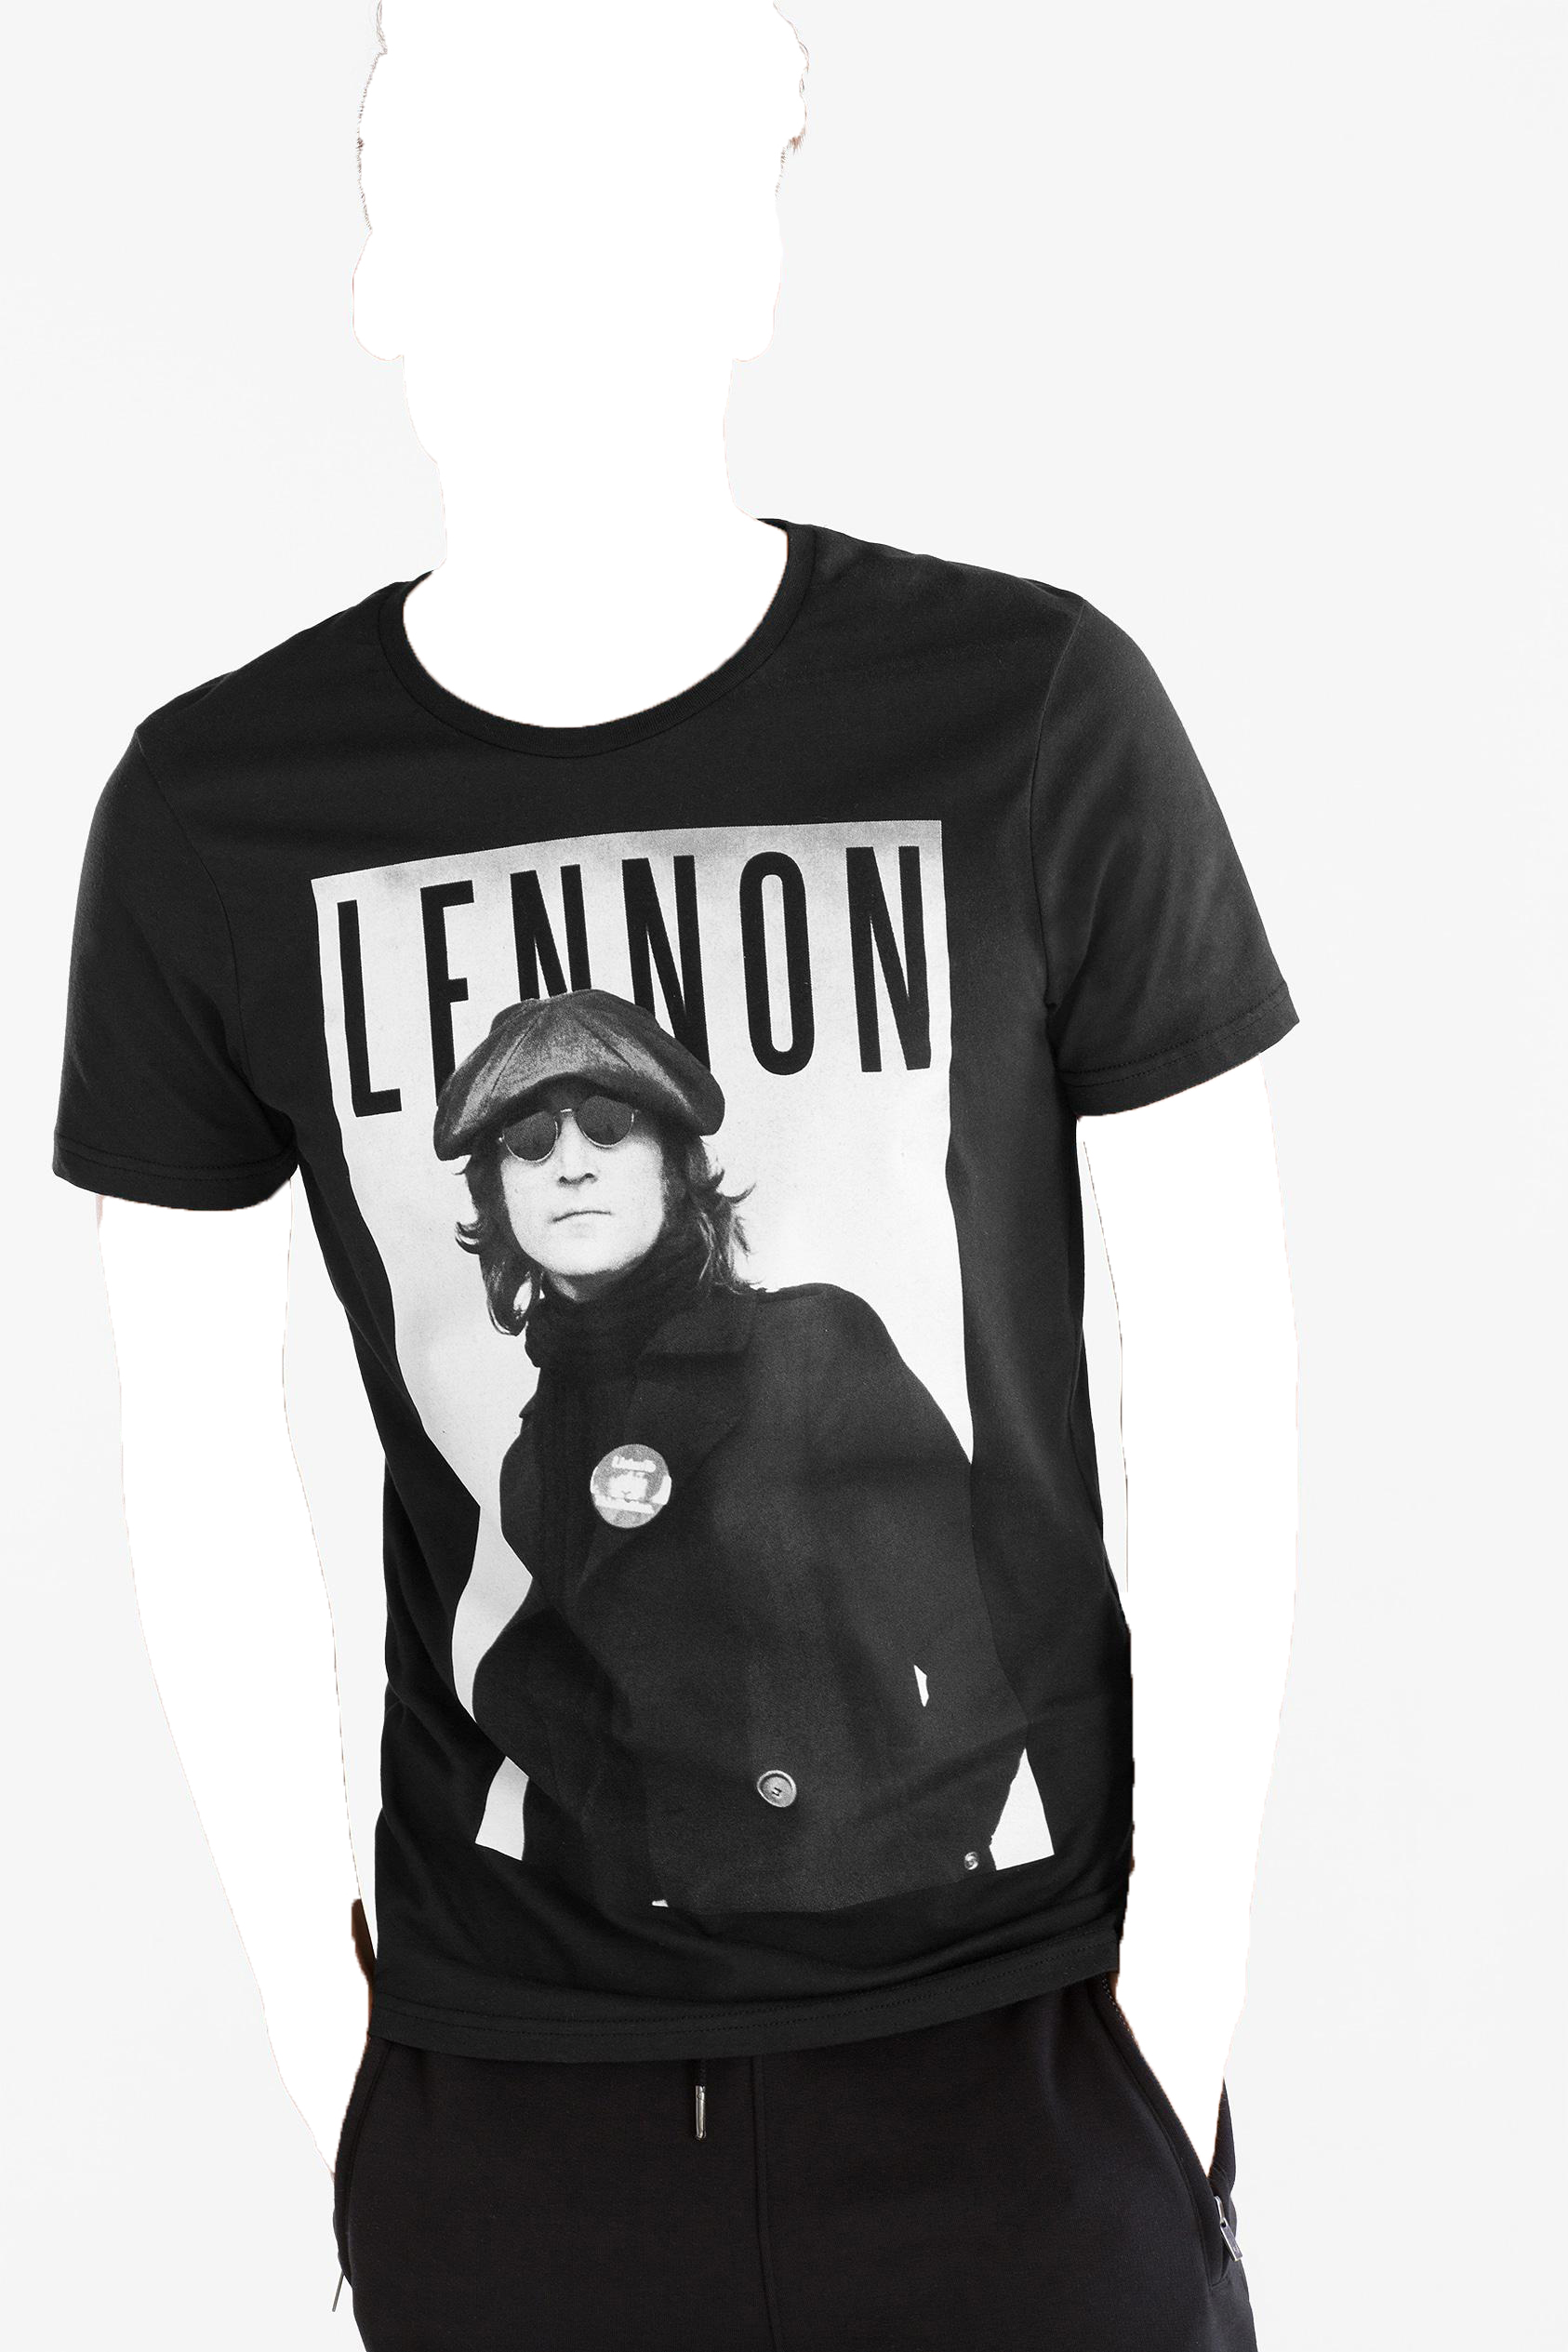teeshirt: (38, 516, 1293, 2030)
